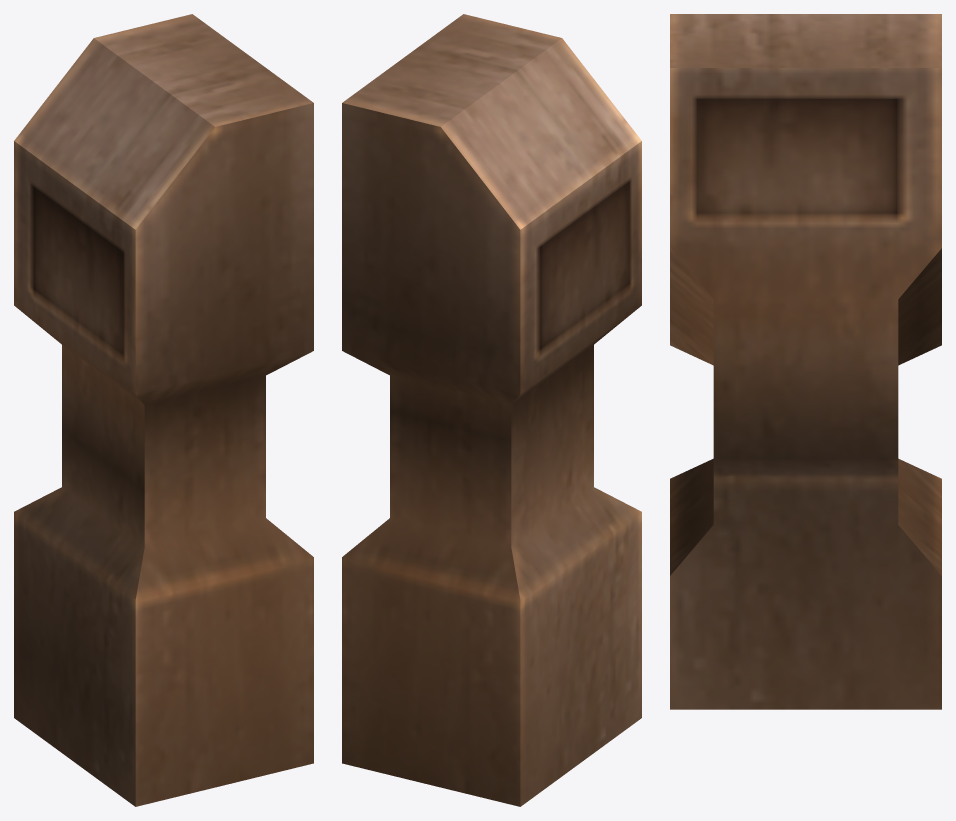
Rendered from FB_ChengZhenMuqiao_QiaoDun.FBX.
3 views of the same model, side by side, from view 1: azimuth 30°, elevation 25°; view 2: azimuth 150°, elevation 25°; view 3: azimuth 270°, elevation 25° (orthographic). The views are drawn at different scales.
Visible parts, largest first — view 1: Object05; view 2: Object05; view 3: Object05.
Boxes of the visible parts, x1=… form: Object05: x1=14, y1=14, x2=313, y2=806; Object05: x1=342, y1=14, x2=641, y2=806; Object05: x1=670, y1=14, x2=941, y2=709.
Bounding box in the file's own units: 1.12 × 3.96 × 1.32.
